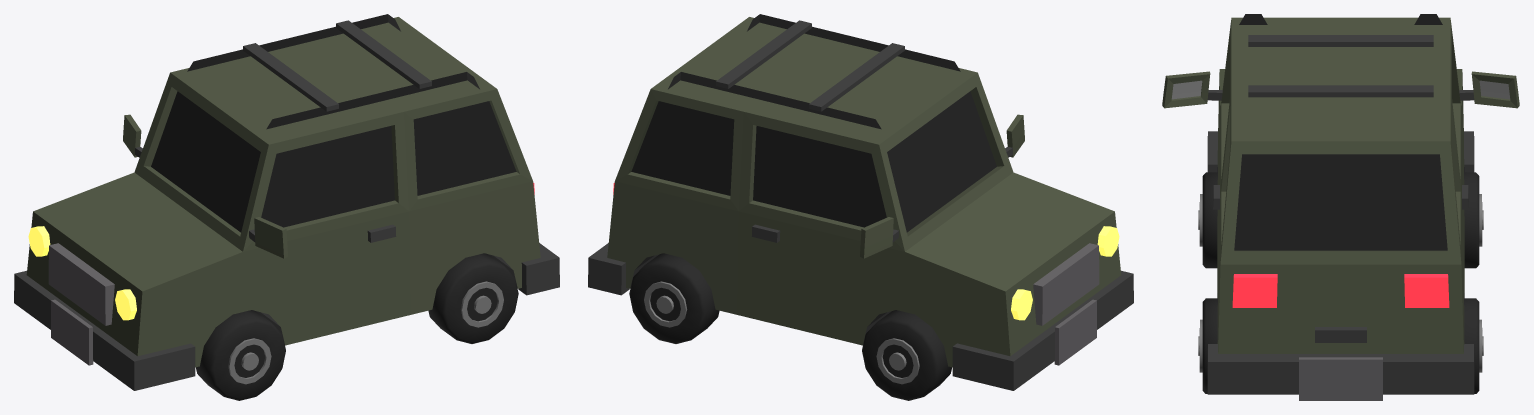
The model's file is carro.glb.
3 views of the same model, side by side, from view 1: azimuth 30°, elevation 25°; view 2: azimuth 150°, elevation 25°; view 3: azimuth 270°, elevation 25° (orthographic). The views are drawn at different scales.
Visible parts, largest first — view 1: Car Base, Wheels; view 2: Car Base, Wheels; view 3: Car Base, Wheels.
Boxes of the visible parts, x1,y1,x2,y2 form: Car Base: (14, 14, 559, 390); Wheels: (196, 253, 518, 400); Car Base: (588, 14, 1133, 390); Wheels: (629, 253, 951, 400); Car Base: (1162, 14, 1519, 400); Wheels: (1198, 172, 1483, 393).
Size of the model in its own units: 5.51 by 3.07 by 3.54.
